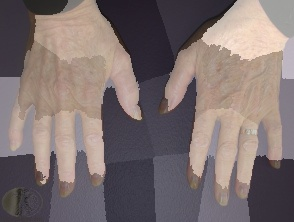Nail_psoriasis: (149, 92, 178, 121), (211, 185, 238, 212), (32, 162, 52, 191), (184, 171, 207, 194), (129, 95, 145, 125), (86, 168, 107, 189), (269, 149, 286, 173), (234, 179, 251, 201), (58, 177, 74, 199), (7, 133, 22, 155)
